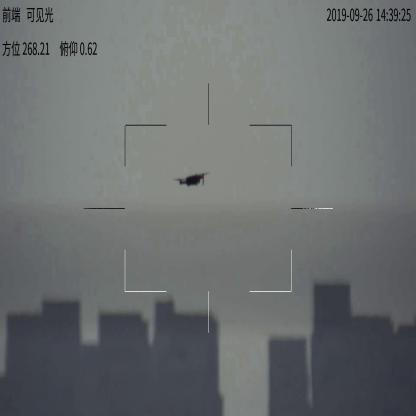uav: (176, 169, 212, 189)
